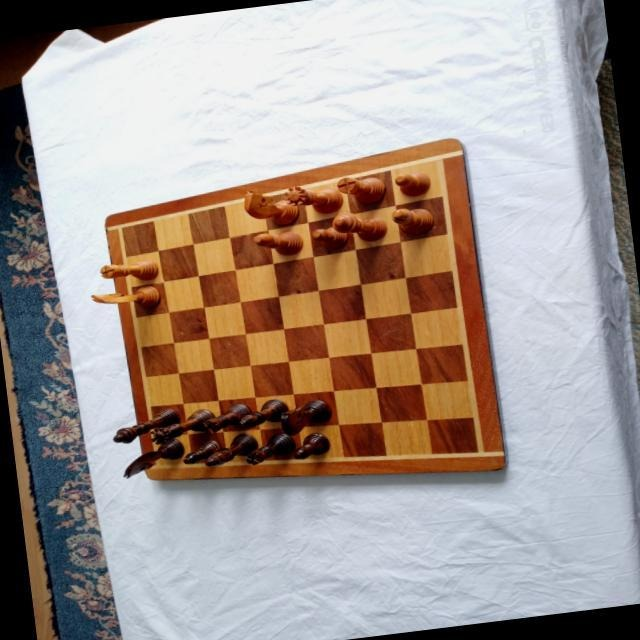black-bishop: (200, 430, 259, 466), (234, 397, 290, 429)
black-king: (109, 405, 183, 443)
black-knight: (117, 436, 186, 478), (277, 396, 333, 436)
black-pawn: (290, 430, 330, 458), (179, 437, 220, 464)
black-queen: (147, 407, 217, 445)
black-rook: (243, 431, 297, 465), (199, 401, 253, 433)
white-bishop: (252, 226, 304, 258), (390, 204, 435, 236)
white-king: (332, 208, 388, 244)
white-knight: (241, 183, 299, 227), (88, 283, 160, 313)
white-pawn: (392, 167, 431, 197), (311, 223, 348, 249)
white-queen: (281, 179, 343, 217)
white-rook: (336, 171, 386, 205), (98, 257, 158, 285)
